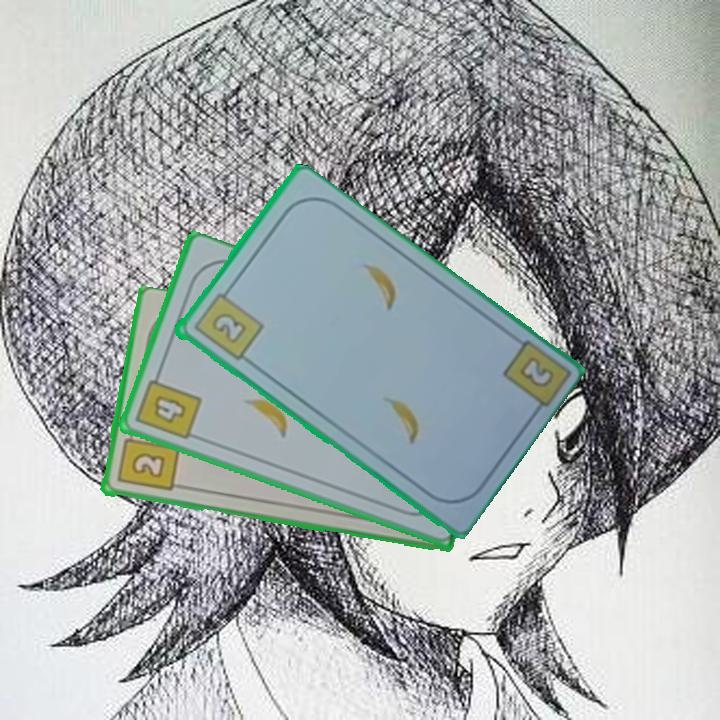2b: (189, 283, 266, 364), (113, 426, 181, 494), (515, 353, 557, 391)
4b: (132, 367, 205, 443)
